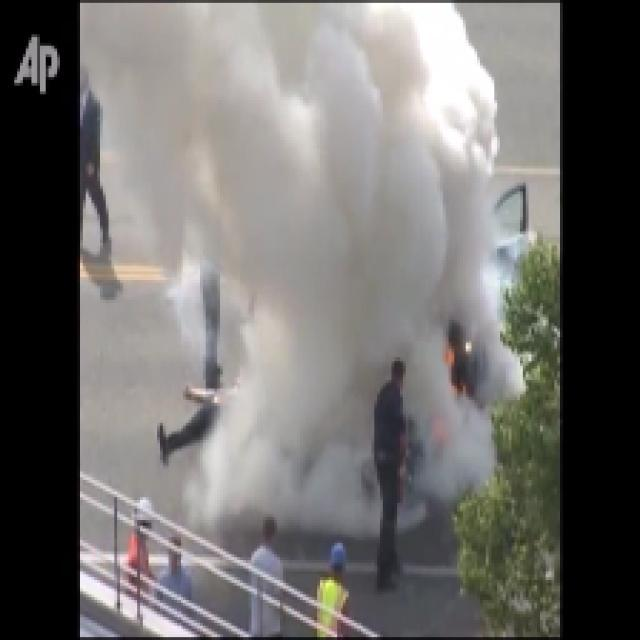Smoke: (243, 140, 466, 352)
